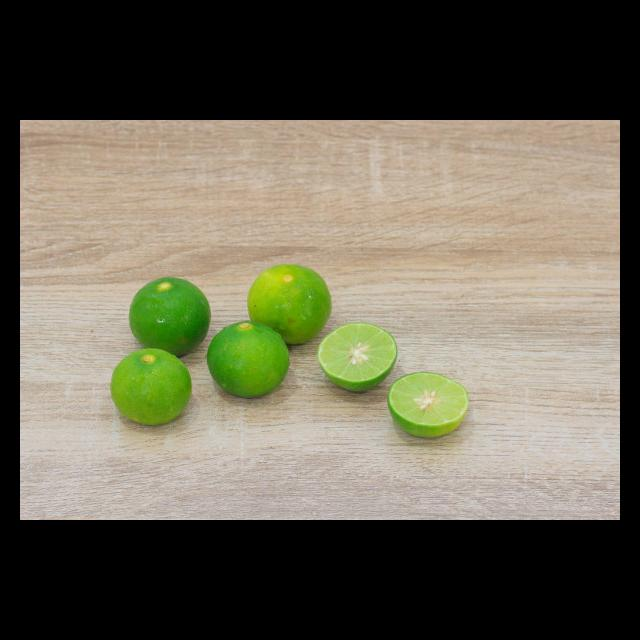lime: (242, 258, 335, 350), (106, 342, 197, 433), (122, 271, 215, 360), (202, 314, 294, 402)
